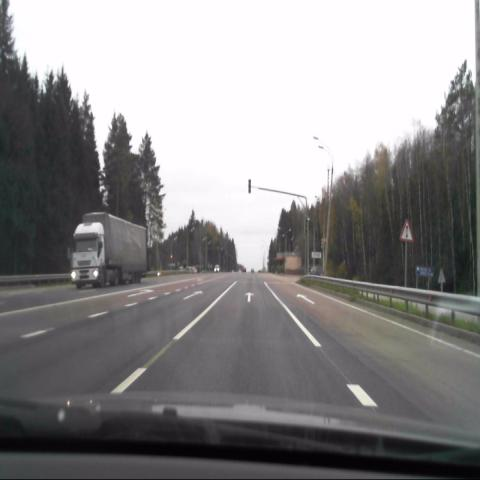1_8: (398, 219, 414, 241)
